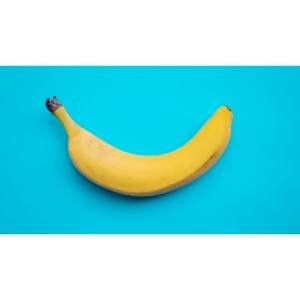banana_brain food: (46, 88, 241, 199)
